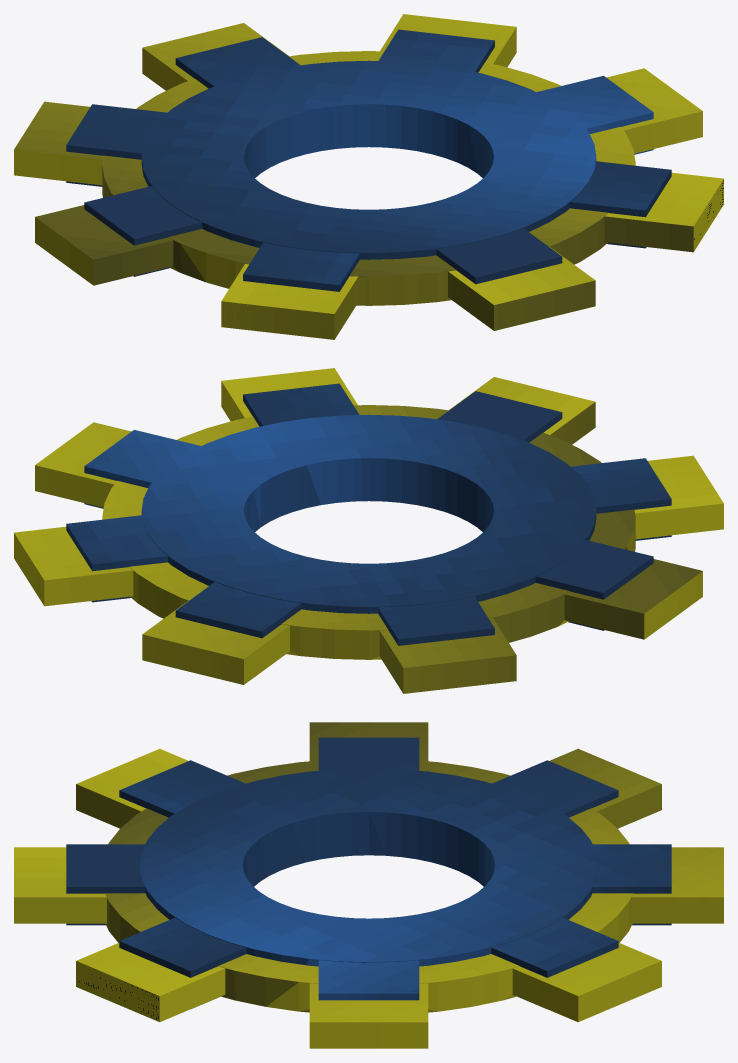
The model's file is Gear.obj.
3 renders of one model, top to bottom at view 1: azimuth 30°, elevation 25°; view 2: azimuth 150°, elevation 25°; view 3: azimuth 270°, elevation 25°, orthographic.
Visible parts, largest first — view 1: Gear; view 2: Gear; view 3: Gear.
Part boxes in pixels (<box>): Gear: <box>14,14,723,339</box>; Gear: <box>14,368,723,693</box>; Gear: <box>14,722,723,1048</box>.
Size of the model in its own units: 8.45 by 0.57 by 8.45.
